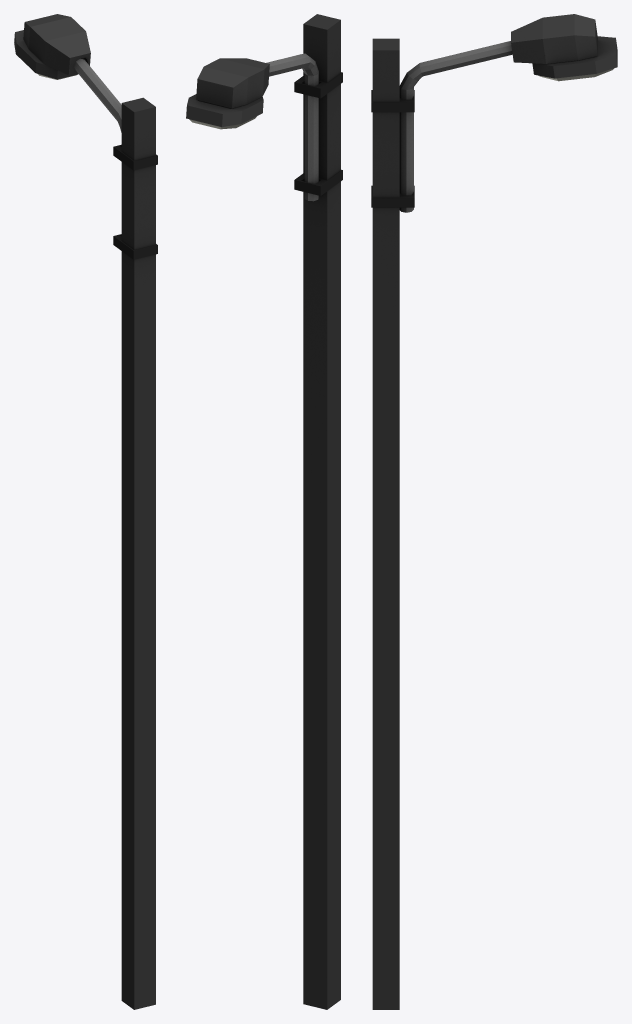
File: Steetlight.fbx
3 views of the same model, side by side, from view 1: azimuth 30°, elevation 25°; view 2: azimuth 150°, elevation 25°; view 3: azimuth 270°, elevation 25° (orthographic). The views are drawn at different scales.
Visible parts, largest first — view 1: StreetLight; view 2: StreetLight; view 3: StreetLight.
Part boxes in pixels (x1,y1,x2,y2): StreetLight: [14, 14, 157, 1009]; StreetLight: [186, 14, 342, 1009]; StreetLight: [371, 14, 617, 1009].
Bounding box in the file's own units: 0.574 × 10.26 × 2.34.
